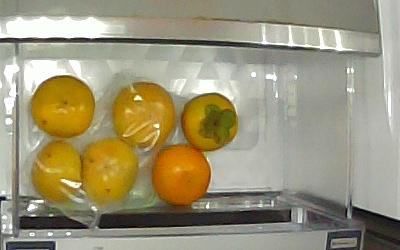persimmon: (30, 76, 95, 140), (152, 146, 211, 206), (181, 93, 239, 153)
persimmon_vinyl: (113, 82, 177, 149), (82, 137, 138, 208), (31, 141, 81, 204)
